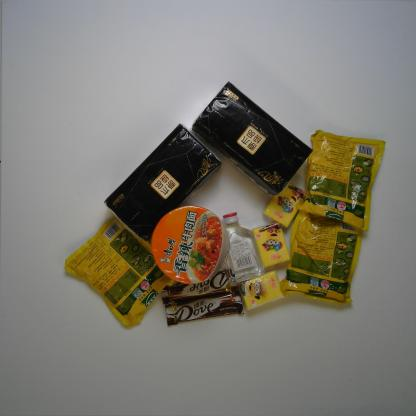Alcohol: (222, 209, 266, 288)
Chocolate: (161, 283, 251, 325), (158, 264, 246, 297)
Instant Noodles: (147, 200, 227, 282)
Seasoner: (60, 215, 171, 335), (281, 207, 371, 308), (301, 127, 387, 228)
Tissue: (102, 124, 223, 248), (192, 81, 314, 196), (236, 266, 289, 312), (262, 180, 306, 225), (250, 222, 294, 267)
